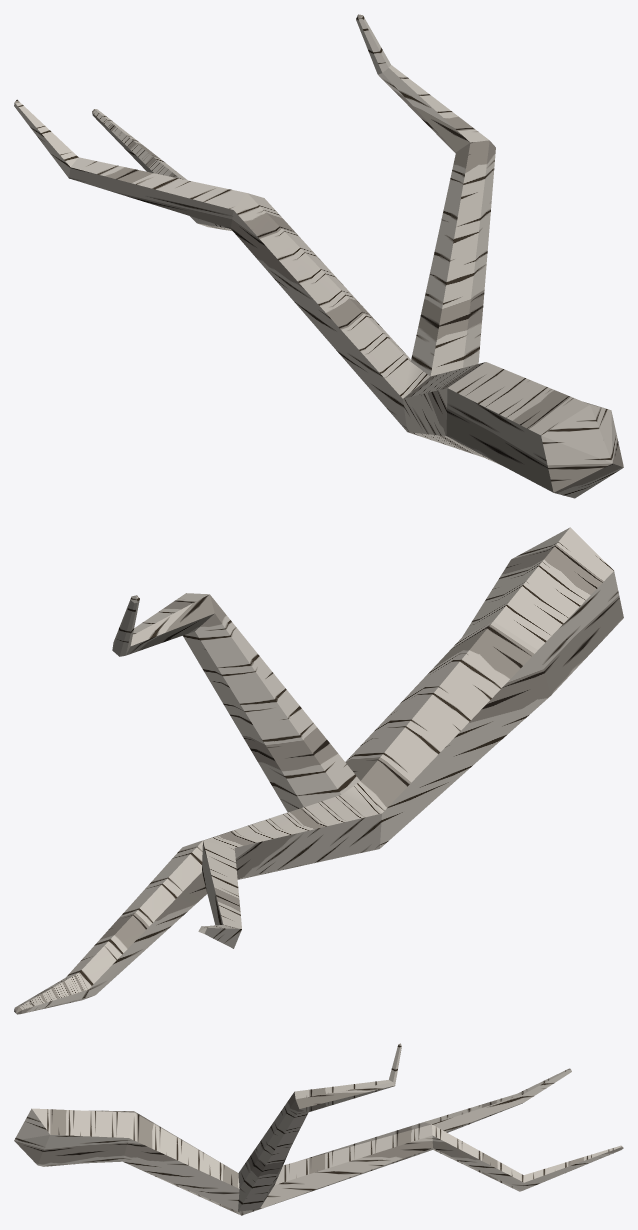
Rendered from synty-tree-swamp-branch-02.gltf.
3 views of the same model, one above another, from view 1: azimuth 30°, elevation 25°; view 2: azimuth 150°, elevation 25°; view 3: azimuth 270°, elevation 25° (orthographic). The views are drawn at different scales.
Visible parts, largest first — view 1: SM_Tree_Swamp_Branch_02; view 2: SM_Tree_Swamp_Branch_02; view 3: SM_Tree_Swamp_Branch_02.
Boxes of the visible parts, x1=… form: SM_Tree_Swamp_Branch_02: x1=14, y1=14, x2=623, y2=498; SM_Tree_Swamp_Branch_02: x1=14, y1=527, x2=623, y2=1014; SM_Tree_Swamp_Branch_02: x1=14, y1=1043, x2=623, y2=1215.
Size of the model in its own units: 1.47 by 1.72 by 5.05.
Materials: 1 (1 with a texture image).
